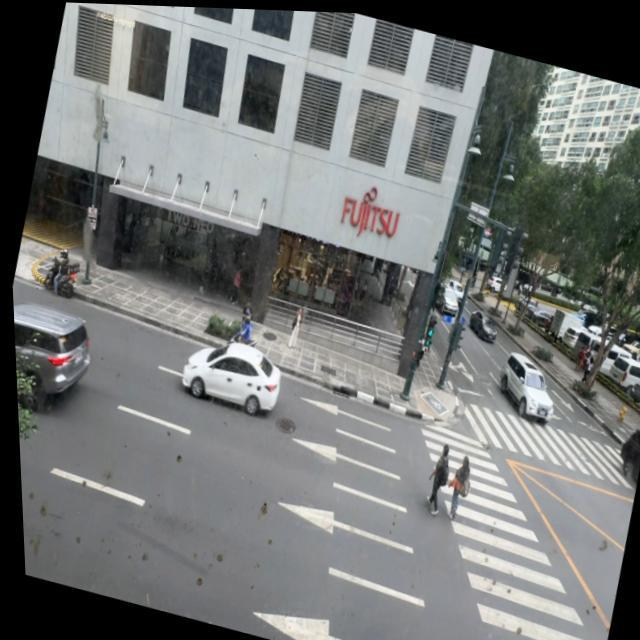jaywalking: (421, 442, 456, 516)
